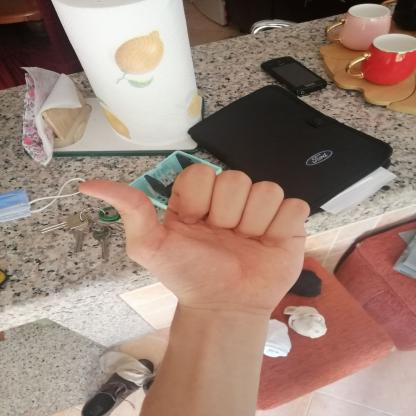DAD: (66, 154, 322, 322)
